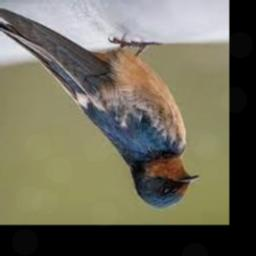Swallow: (0, 7, 197, 210)
